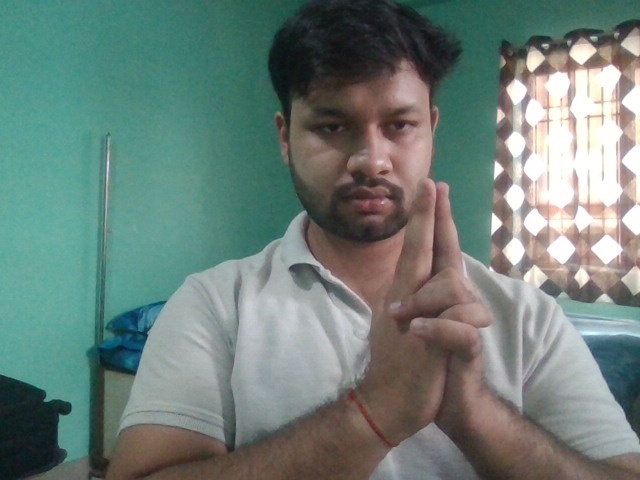1000 Years of Death: (352, 174, 506, 453)
